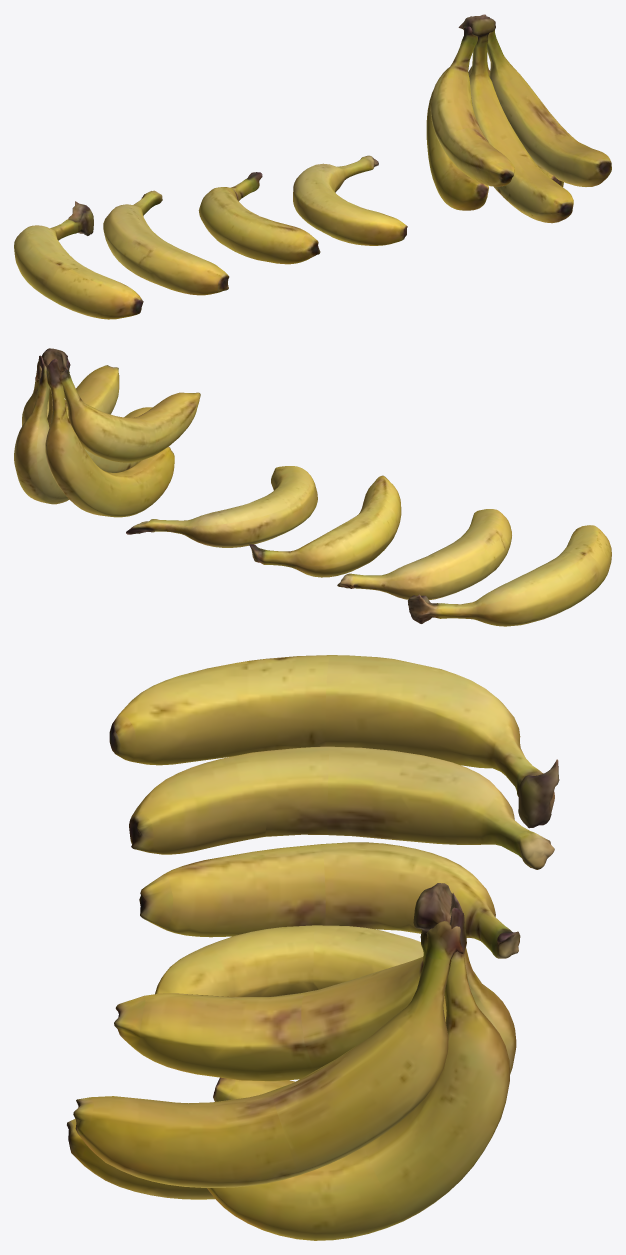
File: bananas.glb
3 renders of one model, top to bottom at view 1: azimuth 30°, elevation 25°; view 2: azimuth 150°, elevation 25°; view 3: azimuth 270°, elevation 25°, orthographic. The views are drawn at different scales.
Parts seen in each view (by area): view 1: bananas_bunch; view 2: bananas_bunch; view 3: bananas_bunch.
Boxes of the visible parts, left/top/right/bottom form: bananas_bunch: left=14, top=14, right=611, bottom=319; bananas_bunch: left=14, top=348, right=611, bottom=626; bananas_bunch: left=67, top=655, right=559, bottom=1240.
Bounding box in the file's own units: 0.6 × 0.1787 × 0.2441.
1 material, 1 textured.
